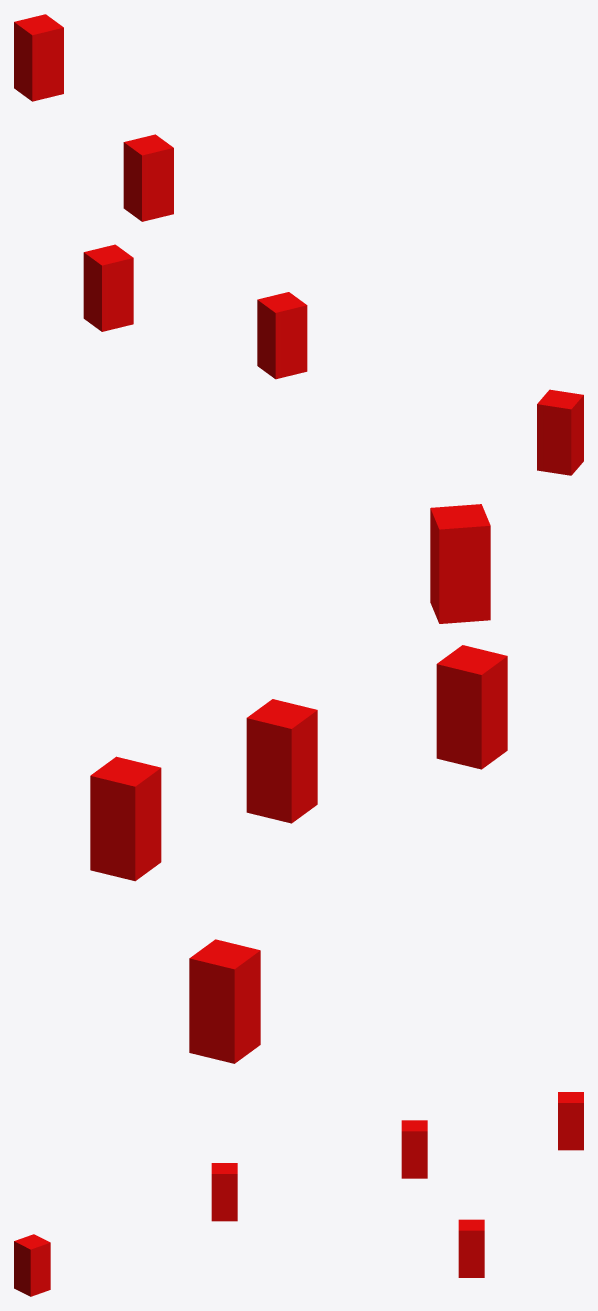
File: M8_Enemies.fbx
3 renders of one model, top to bottom at view 1: azimuth 30°, elevation 25°; view 2: azimuth 150°, elevation 25°; view 3: azimuth 270°, elevation 25°, orthographic. The views are drawn at different scales.
Visible parts, largest first — view 1: Enemy2, Enemy4, Enemy3, Enemy1, Enemy5; view 2: Enemy4, Enemy2, Enemy3, Enemy1, Enemy5; view 3: Enemy5, Enemy2, Enemy3, Enemy4, Enemy1.
Boxes of the visible parts, x1,y1,x2,y2 form: Enemy2: (123, 134, 173, 221); Enemy4: (83, 244, 133, 331); Enemy3: (257, 292, 307, 379); Enemy1: (14, 14, 63, 101); Enemy5: (537, 389, 583, 475); Enemy4: (189, 939, 260, 1063); Enemy2: (246, 699, 317, 823); Enemy3: (436, 645, 507, 769); Enemy1: (90, 756, 161, 881); Enemy5: (430, 504, 490, 623); Enemy5: (14, 1234, 50, 1296); Enemy2: (401, 1120, 427, 1178); Enemy3: (211, 1163, 237, 1221); Enemy4: (458, 1219, 484, 1277); Enemy1: (558, 1092, 583, 1150).
Size of what is drawn, in the model's own units: 11.44 by 14.8 by 43.71.
